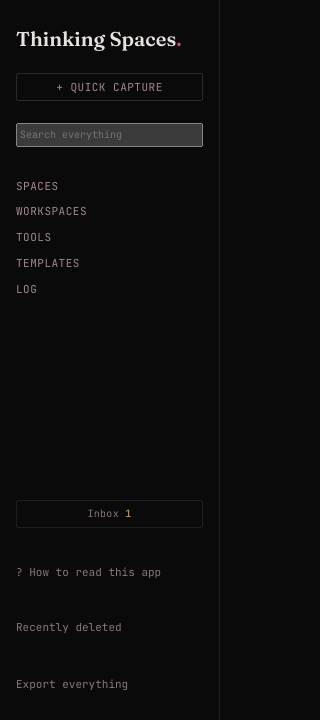
Scenario: Sidebar: the Inbox link › counts up as you capture, without a refetch
The width and height of the screenshot is (320, 720).
expect the link "Inbox 1" is shown: met, box x1=16 y1=500 x2=203 y2=528
Click the button "+ Quick Capture" at (110, 87), box x1=16 y1=73 x2=203 y2=101
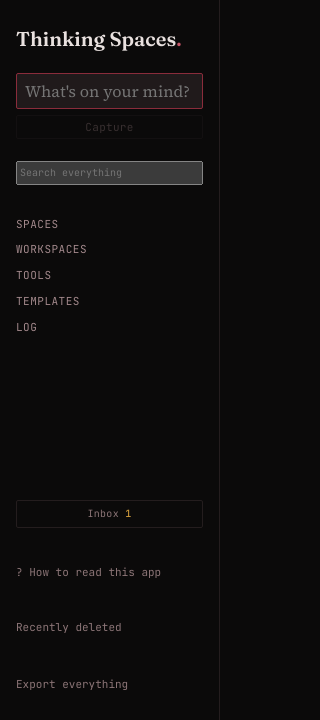
Type "another" into the field with placeholder "What's on your mind?" at (110, 91), box x1=16 y1=73 x2=203 y2=109
Then press Enter
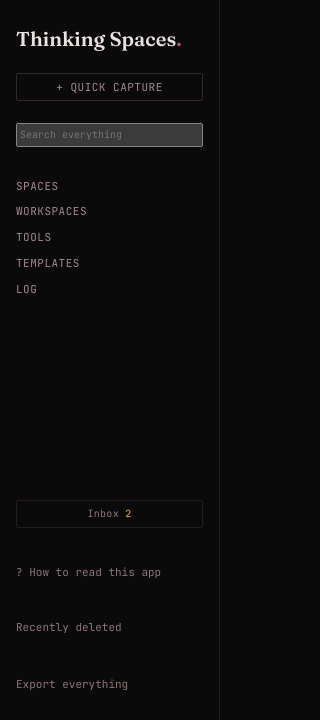
expect the link "Inbox 2" is shown: met, box x1=16 y1=500 x2=203 y2=528
